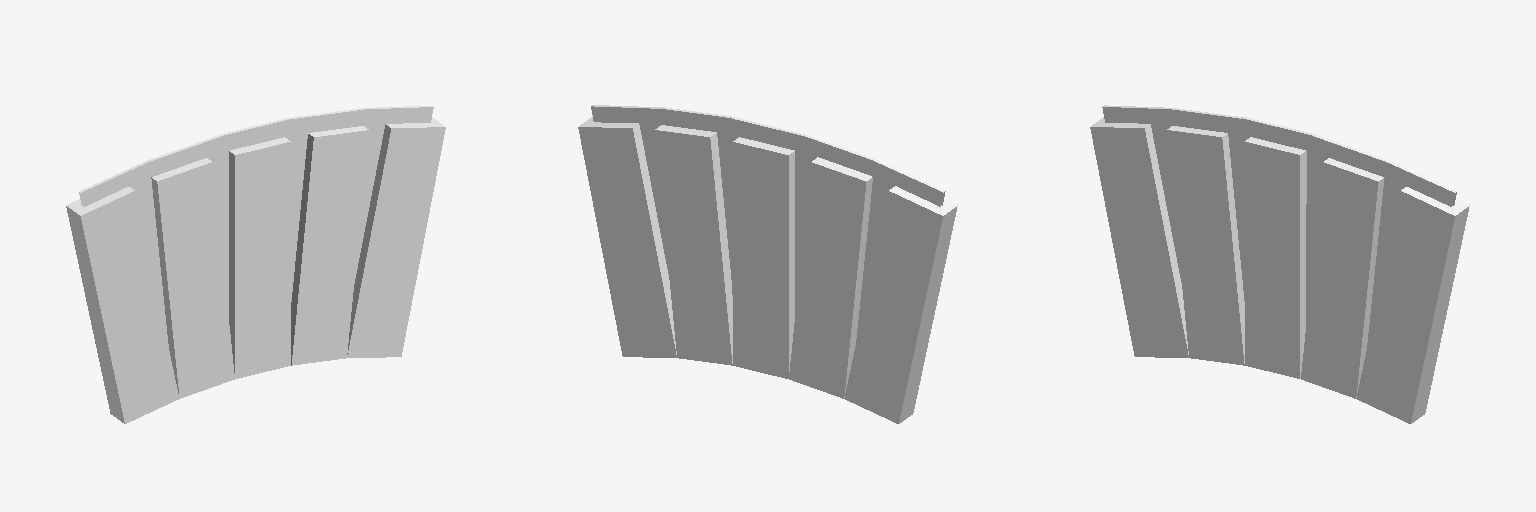
File: lime_mortar_orange_clay_brick_facade_round_arch_3_middle.obj
The picture shows the model from 3 angles: view 1: azimuth 30°, elevation 25°; view 2: azimuth 150°, elevation 25°; view 3: azimuth 330°, elevation 25°; orthographic projection.
Visible parts, largest first — view 1: cube.076, cube.071, cube.078, cube.072, cube.077, cube.079, cube.074, cube.080, cube.073, cube.075; view 2: cube.076, cube.072, cube.071, cube.077, cube.078, cube.079, cube.075, cube.073, cube.074, cube.080; view 3: cube.071, cube.076, cube.077, cube.078, cube.072, cube.073, cube.074, cube.080, cube.079, cube.075.
Boxes of the visible parts, box(x1,y1,x2,y2) form: cube.076: box(66, 187, 179, 423); cube.071: box(347, 117, 445, 357); cube.078: box(229, 137, 290, 378); cube.072: box(291, 126, 368, 365); cube.077: box(151, 158, 234, 398); cube.079: box(79, 160, 168, 346); cube.074: box(291, 108, 363, 301); cube.080: box(150, 135, 228, 314); cube.073: box(354, 105, 433, 283); cube.075: box(220, 117, 291, 194); cube.076: box(844, 186, 957, 423); cube.072: box(655, 125, 732, 365); cube.071: box(578, 116, 676, 357); cube.077: box(789, 157, 872, 398); cube.078: box(733, 137, 794, 378); cube.079: box(856, 159, 945, 341); cube.075: box(732, 117, 804, 313); cube.073: box(591, 105, 668, 273); cube.074: box(661, 107, 733, 279); cube.080: box(804, 134, 874, 225); cube.071: box(1356, 187, 1469, 423); cube.076: box(1090, 117, 1188, 357); cube.077: box(1167, 126, 1244, 365); cube.078: box(1245, 137, 1306, 378); cube.072: box(1301, 158, 1384, 398); cube.073: box(1367, 160, 1456, 345); cube.074: box(1306, 135, 1385, 322); cube.080: box(1172, 108, 1245, 300); cube.079: box(1102, 105, 1181, 282); cube.075: box(1242, 117, 1315, 193).
Size of the model in its own units: 1.02 by 0.6931 by 0.0716.